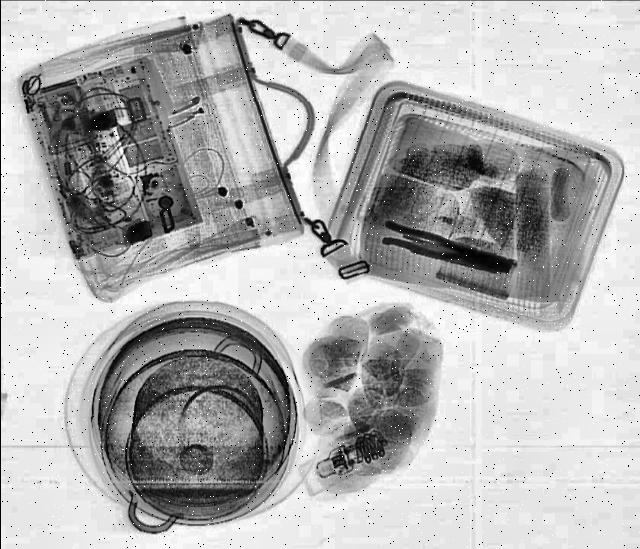Pliers: (376, 219, 518, 283)
